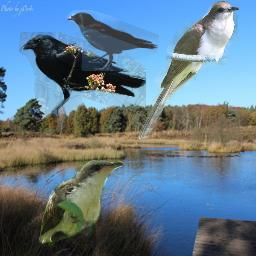Crow: (17, 32, 146, 118), (66, 10, 159, 71)
Cuckoo: (137, 1, 239, 140), (38, 159, 123, 245)
